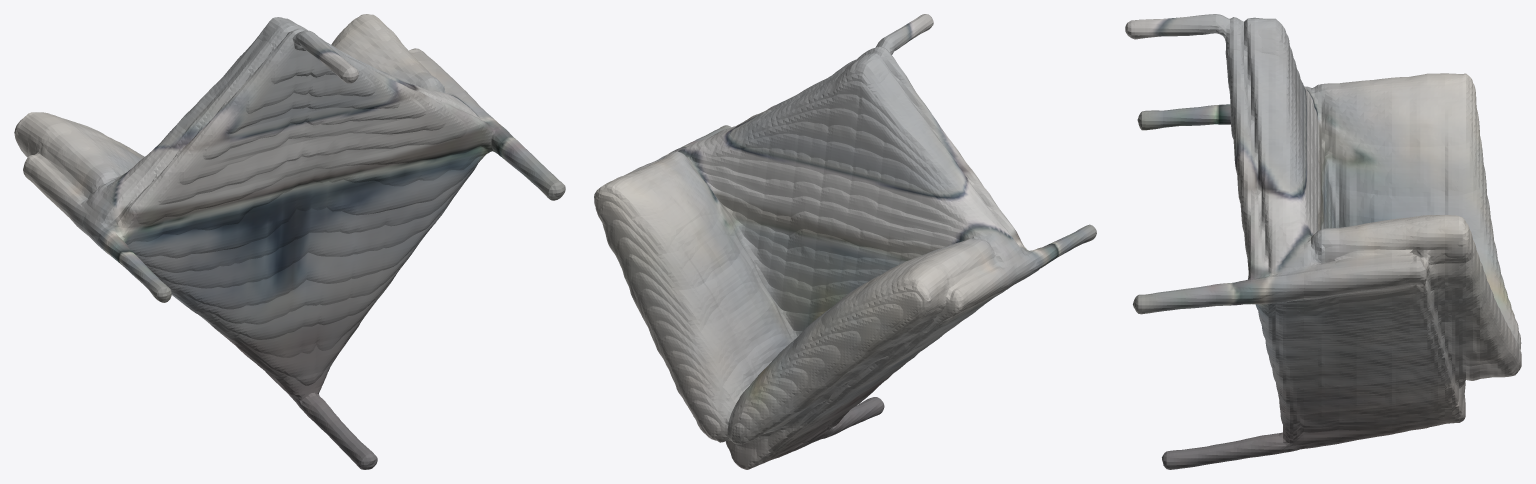
The model's file is Mooduuldiivan.glb.
3 renders of one model, left to right at view 1: azimuth 30°, elevation 25°; view 2: azimuth 150°, elevation 25°; view 3: azimuth 270°, elevation 25°, orthographic. The views are drawn at different scales.
Parts seen in each view (by area): view 1: world; view 2: world; view 3: world.
Boxes of the visible parts, box(x1,y1,x2,y2) form: world: box(14, 14, 565, 469); world: box(594, 14, 1096, 469); world: box(1125, 14, 1521, 469).
Bounding box in the file's own units: 0.7396 × 0.7457 × 0.6142.
